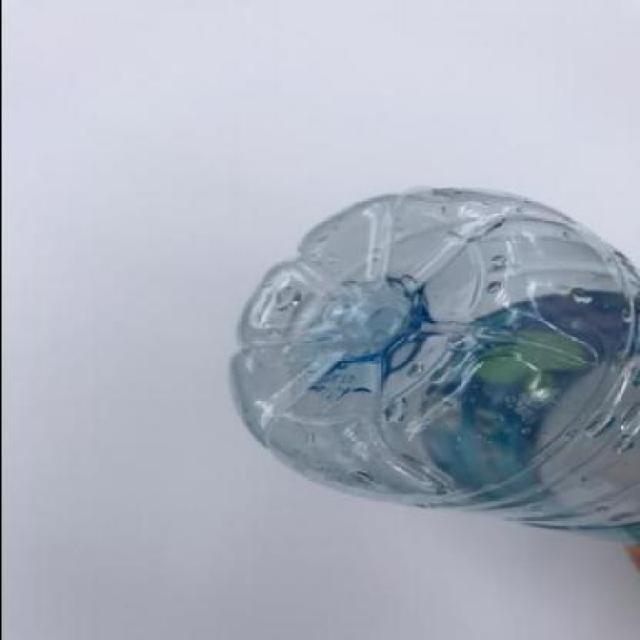PLASTIC: (225, 186, 638, 574)
